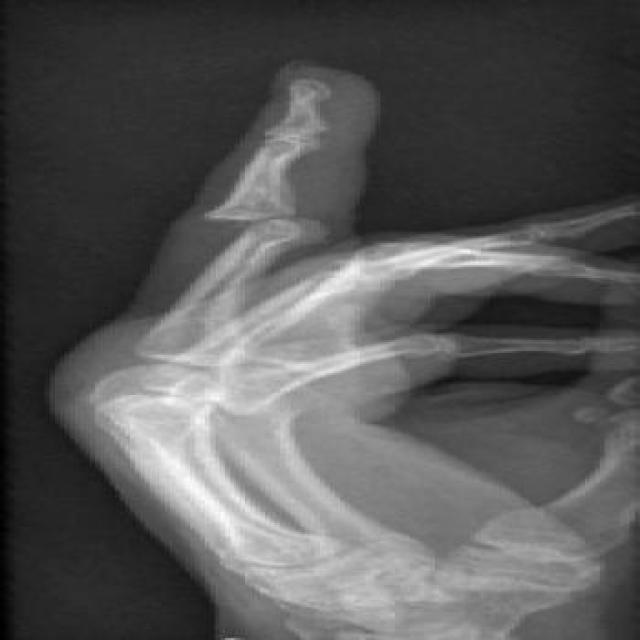Fracture: (190, 204, 338, 246)
